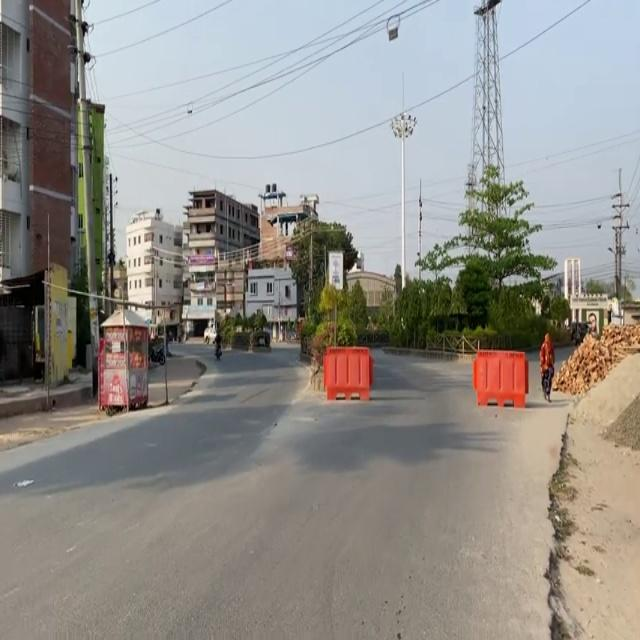Construction-barrier: (522, 426, 604, 634), (0, 380, 92, 419), (599, 388, 639, 450)
Dog: (551, 321, 639, 395)
Downstairs: (86, 300, 176, 436)
Fallen-tree: (540, 362, 554, 402), (570, 321, 590, 347), (149, 343, 165, 365)
Garbage: (472, 348, 528, 407), (322, 345, 373, 400)
Garbage-bin: (539, 332, 555, 401), (213, 331, 223, 360)
